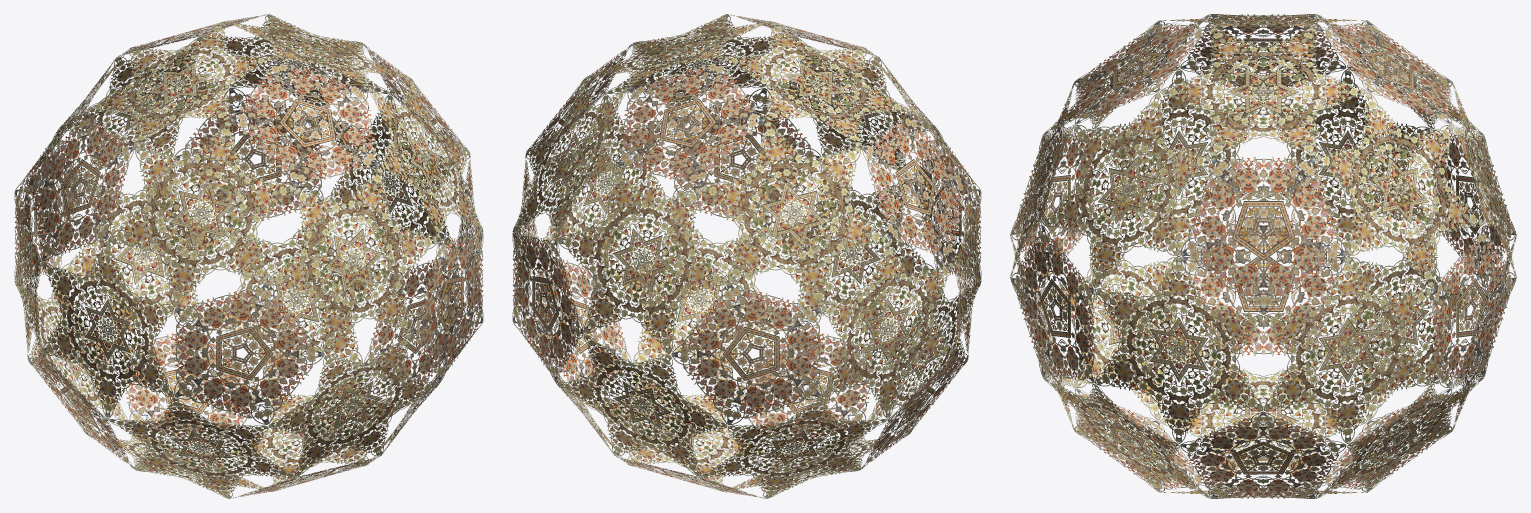
Rendered from TruncatedIcosahedron9.gltf.
3 views of the same model, side by side, from view 1: azimuth 30°, elevation 25°; view 2: azimuth 150°, elevation 25°; view 3: azimuth 270°, elevation 25° (orthographic). The views are drawn at different scales.
Visible parts, largest first — view 1: TruncatedIcosahedron; view 2: TruncatedIcosahedron; view 3: TruncatedIcosahedron.
Part boxes in pixels (x1,y1,x2,y2): TruncatedIcosahedron: (14, 14, 483, 498); TruncatedIcosahedron: (512, 14, 981, 498); TruncatedIcosahedron: (1010, 14, 1516, 498).
Size of the model in its own units: 4.85 by 4.85 by 4.85.
2 materials, 2 textured.
